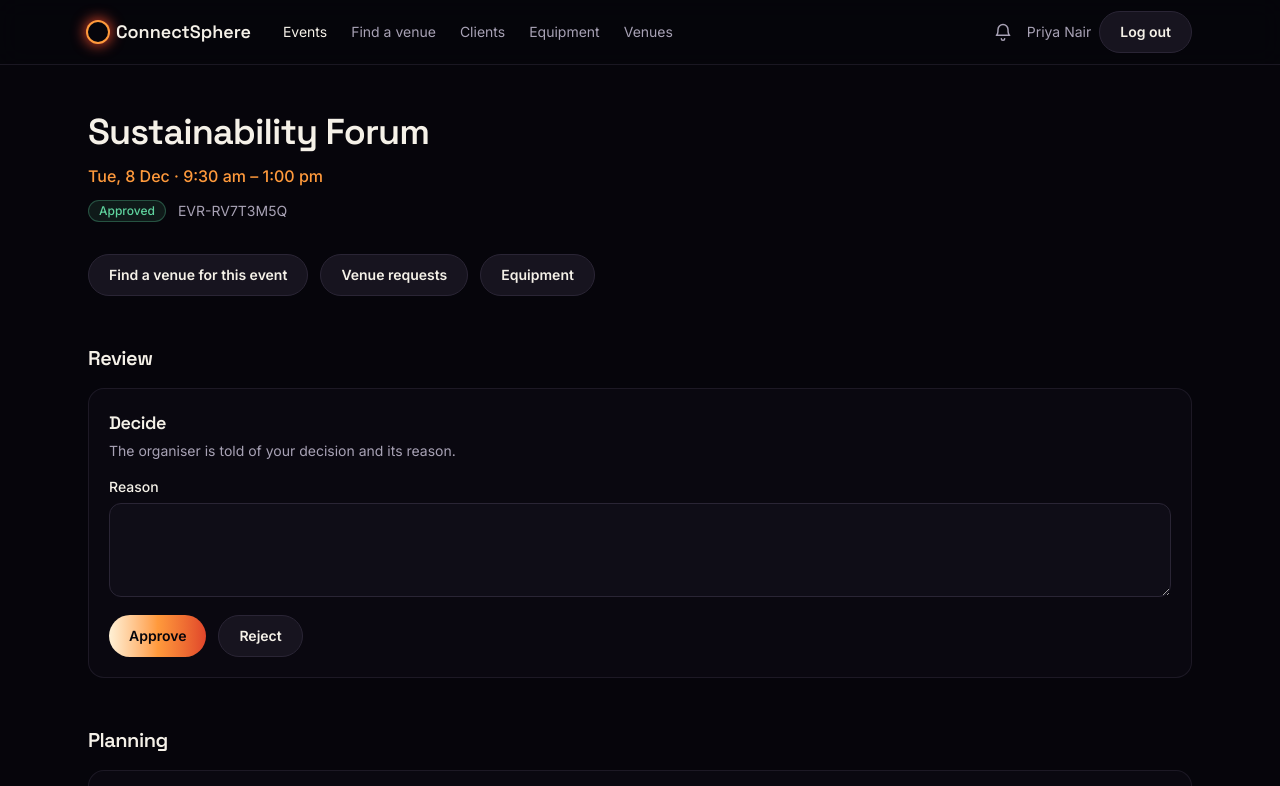
SCRUM-31 AC4, AC6 deciding › keeps the reason typed when the backend refuses it
Type "Too late now." into the text box labelled "Reason" at (640,550), box [109, 503, 1171, 597]
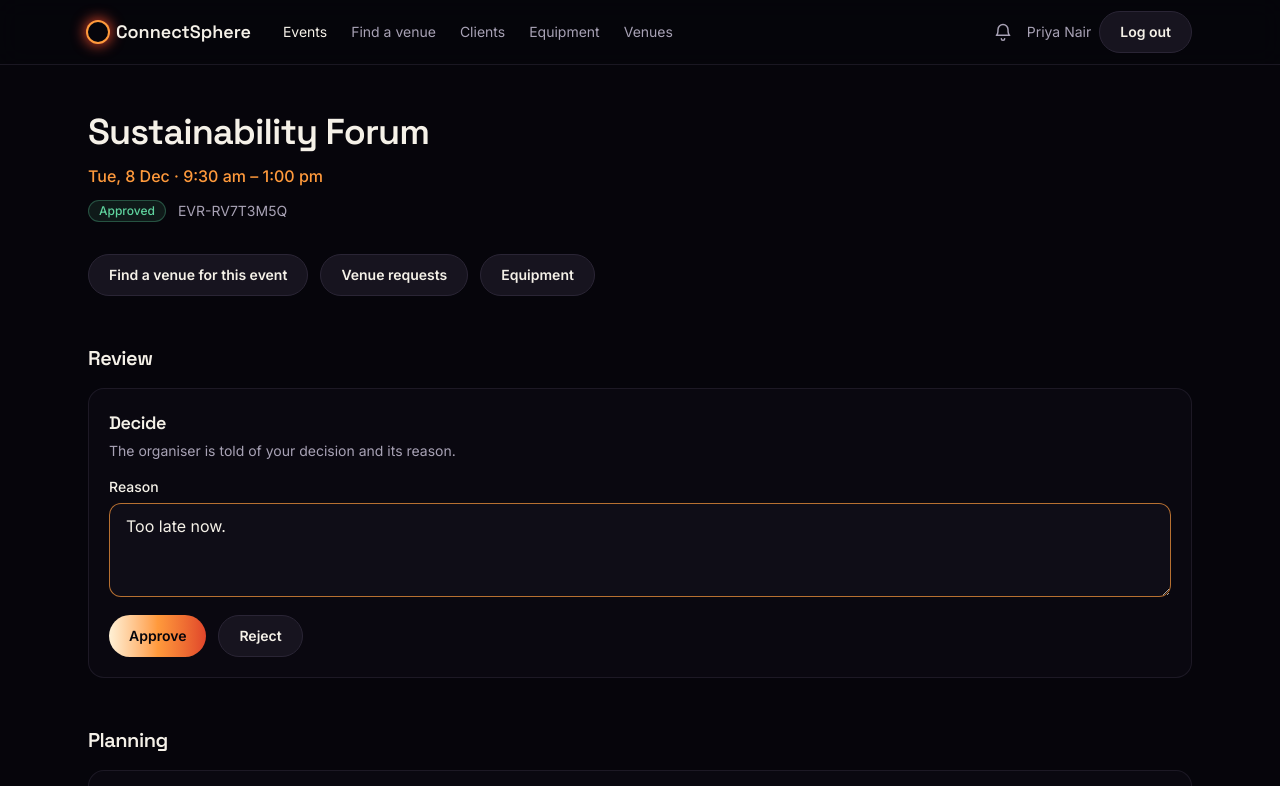
Click the button "Reject" at (261,636), box [218, 615, 303, 657]
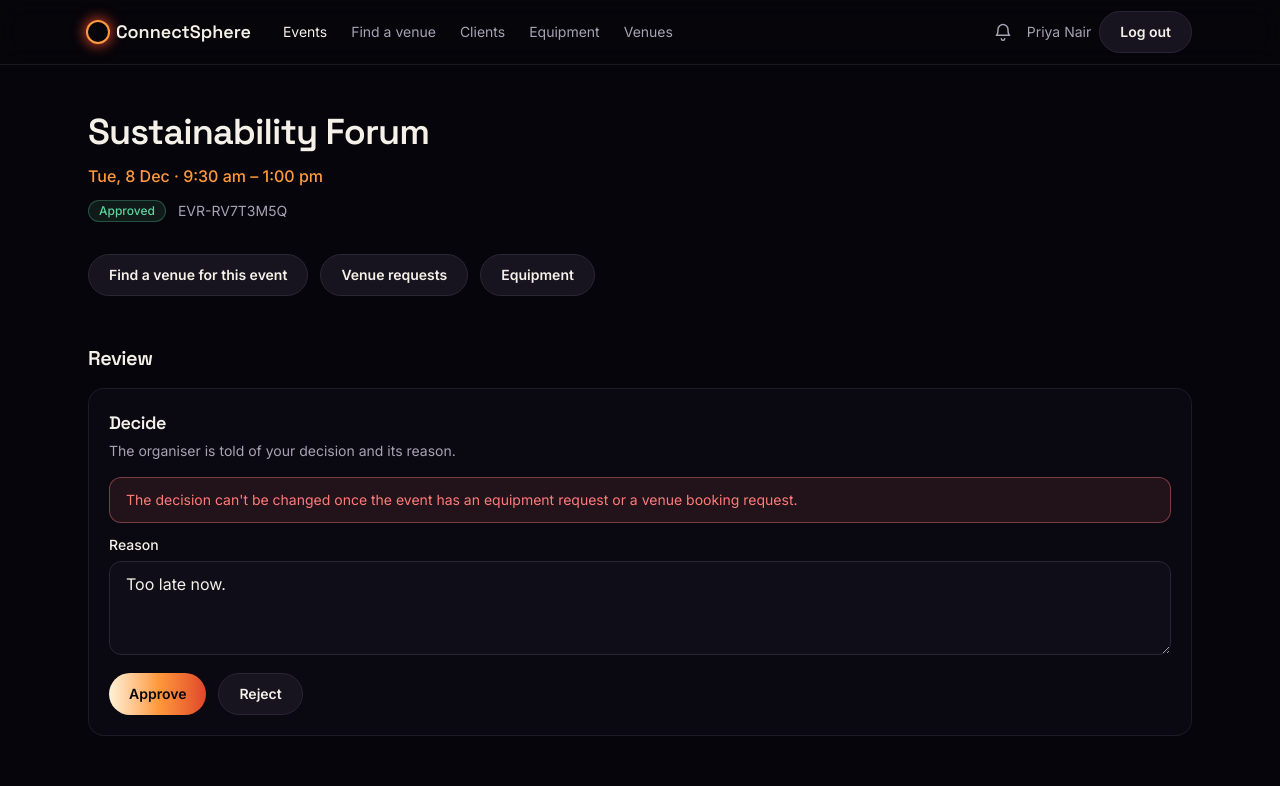
Result: the message is shown at [109, 477, 1171, 523]
